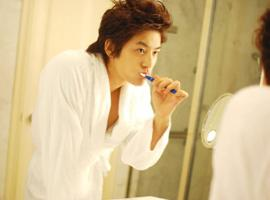person: (24, 2, 191, 200)
